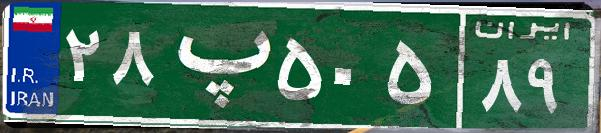0: (330, 28, 385, 110)
2: (57, 26, 110, 107)
5: (385, 28, 445, 110), (273, 28, 330, 110)
8: (475, 38, 525, 113), (110, 28, 158, 105)
9: (525, 38, 570, 115)
پ: (158, 15, 273, 115)
